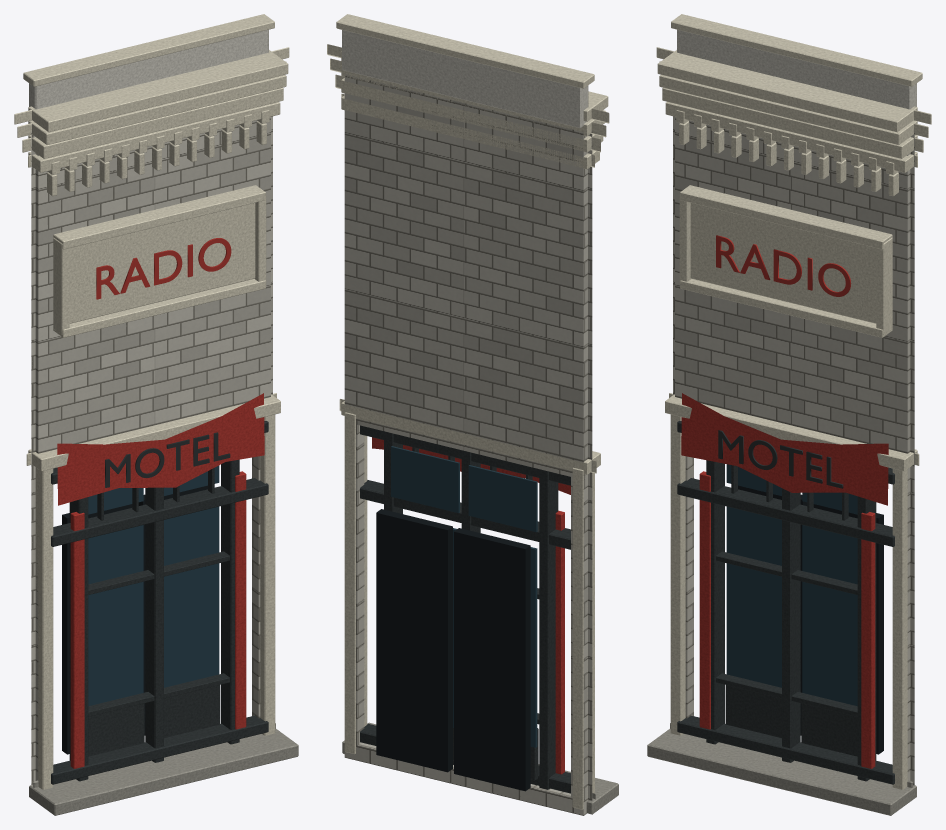
The model's file is BUSS4_lod1.glb.
The picture shows the model from 3 angles, left to right: view 1: azimuth 30°, elevation 25°; view 2: azimuth 150°, elevation 25°; view 3: azimuth 330°, elevation 25°; orthographic projection. The views are drawn at different scales.
Parts seen in each view (by area): view 1: BUSS4_FRONT_LOD1; view 2: BUSS4_FRONT_LOD1; view 3: BUSS4_FRONT_LOD1.
Boxes of the visible parts, x1,y1,x2,y2 form: BUSS4_FRONT_LOD1: (14, 14, 298, 815); BUSS4_FRONT_LOD1: (327, 14, 618, 815); BUSS4_FRONT_LOD1: (647, 14, 931, 815).
Bounding box in the file's own units: 3.78 × 9.44 × 1.
9 materials, 7 textured.
